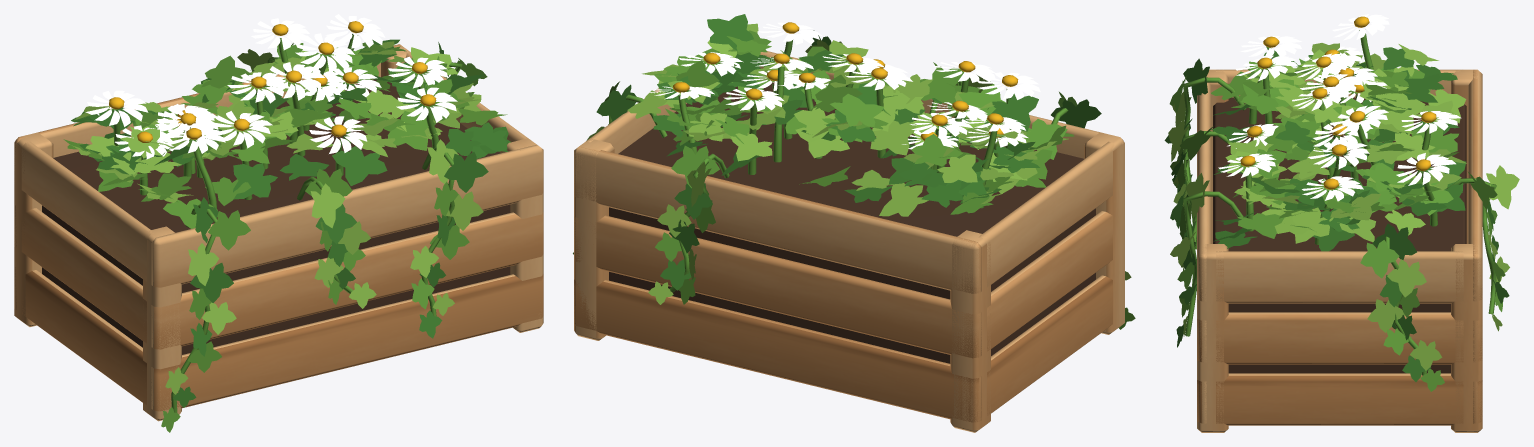
Rendered from daisy_crate.glb.
3 views of the same model, side by side, from view 1: azimuth 30°, elevation 25°; view 2: azimuth 150°, elevation 25°; view 3: azimuth 270°, elevation 25° (orthographic). The views are drawn at different scales.
Parts seen in each view (by area): view 1: model; view 2: model; view 3: model.
Boxes of the visible parts, box(x1,y1,x2,y2) form: model: box(14, 14, 543, 432); model: box(573, 14, 1135, 432); model: box(1164, 14, 1519, 432).
Size of the model in its own units: 0.5984 by 0.3686 by 0.4487.
Materials: 8 (1 with a texture image).
